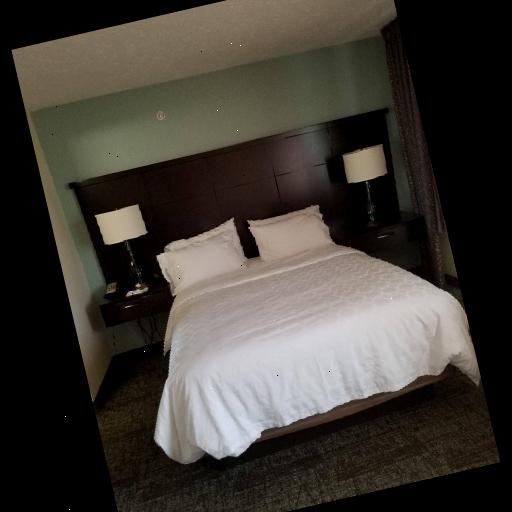clean_bed: (134, 128, 475, 470)
lamp: (334, 142, 405, 234), (94, 201, 160, 297)
organised_pillow: (154, 202, 335, 297)
